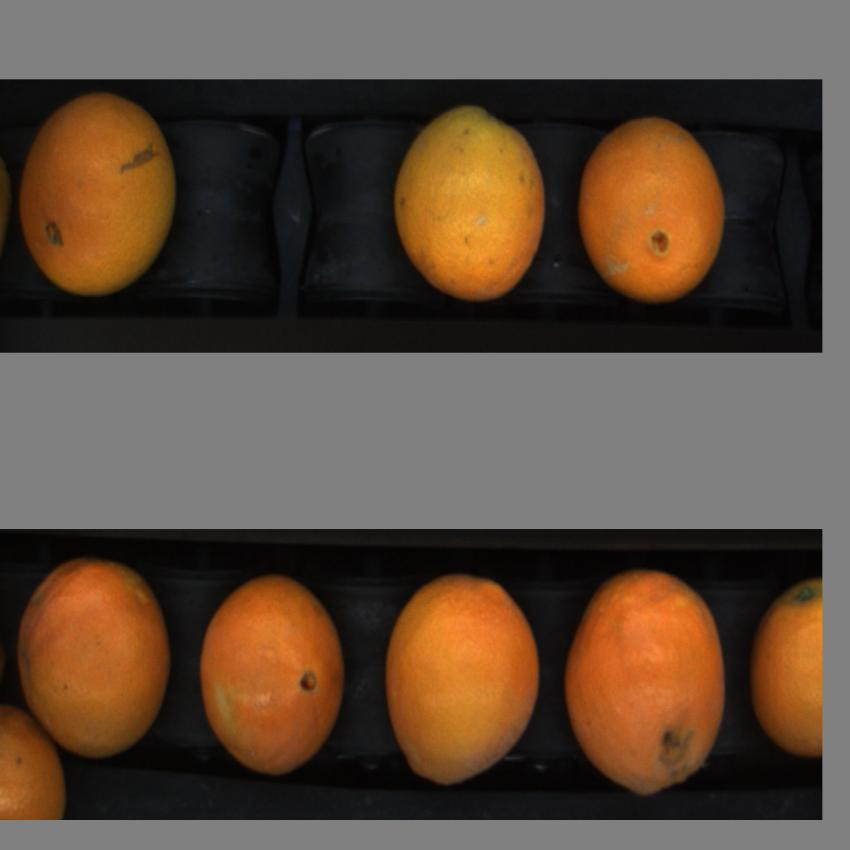Buen estado: (377, 564, 552, 798), (572, 104, 740, 318), (391, 96, 553, 307), (15, 91, 180, 297), (13, 555, 177, 761), (194, 573, 350, 776), (747, 567, 824, 758), (2, 697, 69, 820)
Mal estado: (560, 560, 735, 802)
